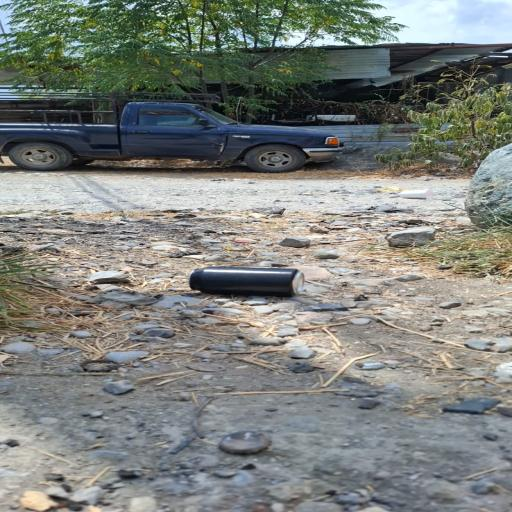LATA: (169, 262, 335, 302)
